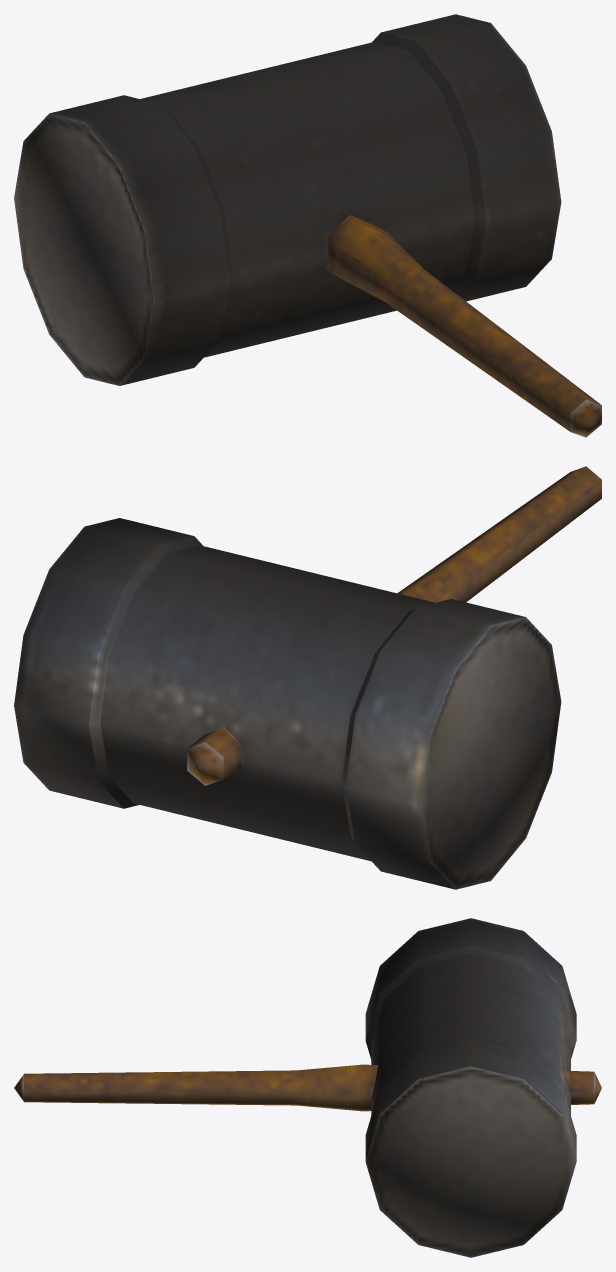
Rendered from club003.fbx.
3 views of the same model, one above another, from view 1: azimuth 30°, elevation 25°; view 2: azimuth 150°, elevation 25°; view 3: azimuth 270°, elevation 25° (orthographic). The views are drawn at different scales.
Parts seen in each view (by area): view 1: club003; view 2: club003; view 3: club003.
Boxes of the visible parts, <box> form: club003: <box>14,14,601,437</box>; club003: <box>14,466,601,889</box>; club003: <box>14,918,601,1257</box>.
Size of the model in its own units: 0.6 by 0.36 by 1.
